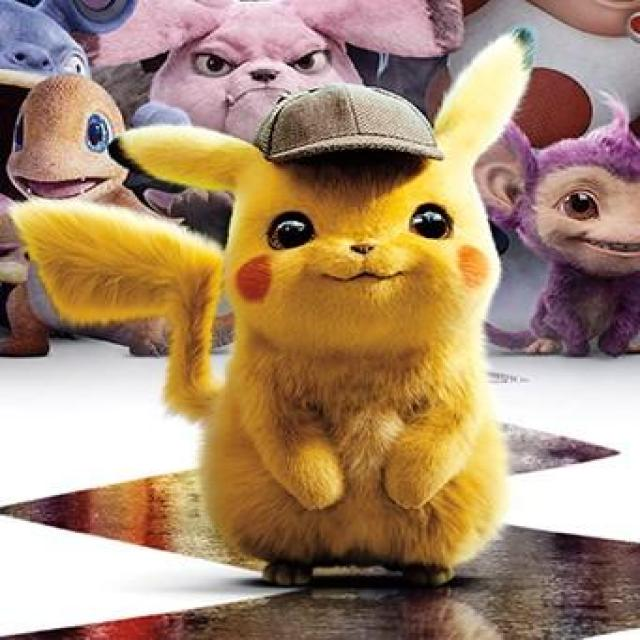pikachu: (13, 26, 541, 588)
